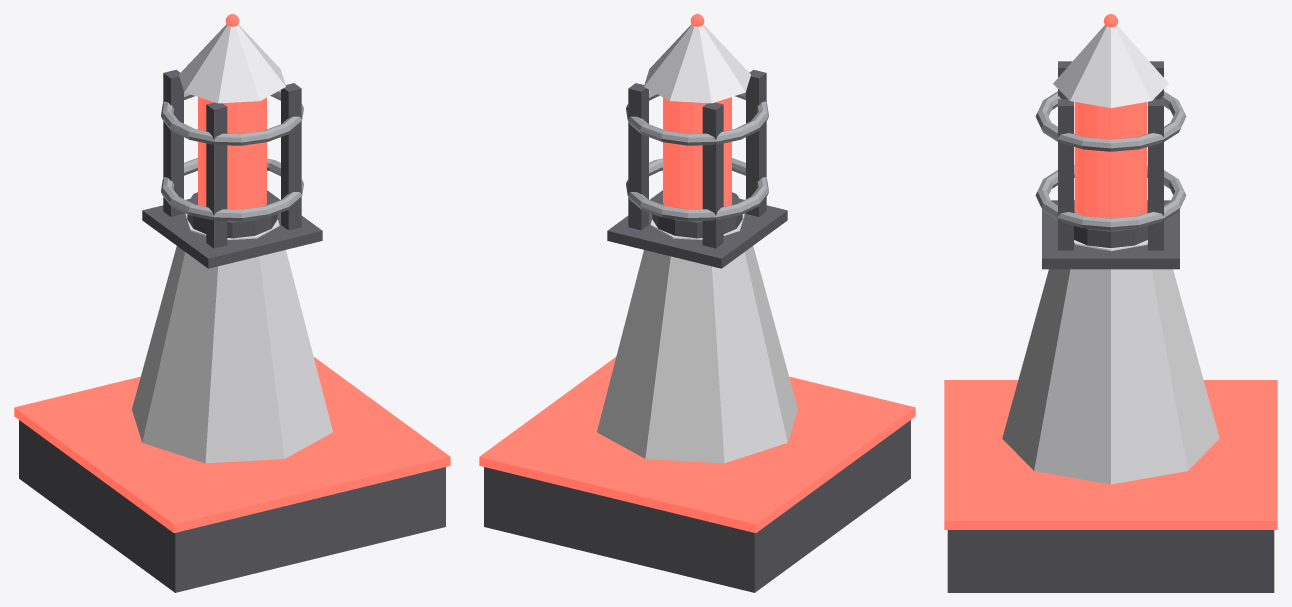
Rendered from jp_power_generator.glb.
The picture shows the model from 3 angles, left to right: view 1: azimuth 30°, elevation 25°; view 2: azimuth 150°, elevation 25°; view 3: azimuth 270°, elevation 25°; orthographic projection. The views are drawn at different scales.
Parts seen in each view (by area): view 1: Spire, BaseTrim, Base, Cap, Core, SpireBand, Pillar, Pillar.002, RingLow, Pillar.001, RingHigh, CoreSeat; view 2: Spire, BaseTrim, Base, Cap, Core, SpireBand, Pillar.001, Pillar.003, RingLow, Pillar, RingHigh, CoreSeat; view 3: Spire, BaseTrim, Base, Core, Cap, SpireBand, RingLow, RingHigh, Pillar.002, Pillar.003, CoreSeat.
Boxes of the visible parts, left/top/right/bottom form: Spire: left=132, top=214, right=332, bottom=463; BaseTrim: left=14, top=357, right=450, bottom=532; Base: left=19, top=420, right=445, bottom=592; Cap: left=179, top=24, right=285, bottom=103; Core: left=198, top=97, right=266, bottom=209; SpireBand: left=142, top=190, right=322, bottom=268; Pillar: left=206, top=102, right=227, bottom=248; Pillar.002: left=281, top=83, right=301, bottom=230; RingLow: left=161, top=158, right=303, bottom=221; Pillar.001: left=163, top=69, right=183, bottom=216; RingHigh: left=161, top=90, right=303, bottom=145; CoreSeat: left=187, top=192, right=277, bottom=238; Spire: left=597, top=214, right=797, bottom=463; BaseTrim: left=479, top=357, right=915, bottom=532; Base: left=484, top=420, right=910, bottom=592; Cap: left=644, top=24, right=750, bottom=103; Core: left=663, top=97, right=731, bottom=209; SpireBand: left=607, top=190, right=787, bottom=268; Pillar.001: left=702, top=102, right=723, bottom=248; Pillar.003: left=628, top=83, right=648, bottom=230; RingLow: left=626, top=158, right=768, bottom=221; Pillar: left=746, top=69, right=766, bottom=216; RingHigh: left=626, top=90, right=768, bottom=145; CoreSeat: left=652, top=192, right=742, bottom=238; Spire: left=1002, top=240, right=1219, bottom=484; BaseTrim: left=944, top=380, right=1277, bottom=529; Base: left=947, top=530, right=1274, bottom=592; Core: left=1074, top=102, right=1147, bottom=218; Cap: left=1053, top=25, right=1168, bottom=107; SpireBand: left=1042, top=200, right=1179, bottom=269; RingLow: left=1035, top=165, right=1186, bottom=230; RingHigh: left=1035, top=91, right=1186, bottom=151; Pillar.002: left=1058, top=99, right=1073, bottom=250; Pillar.003: left=1148, top=99, right=1163, bottom=250; CoreSeat: left=1074, top=200, right=1147, bottom=247.
Size of the model in its own units: 4.6 by 7.75 by 4.6.
